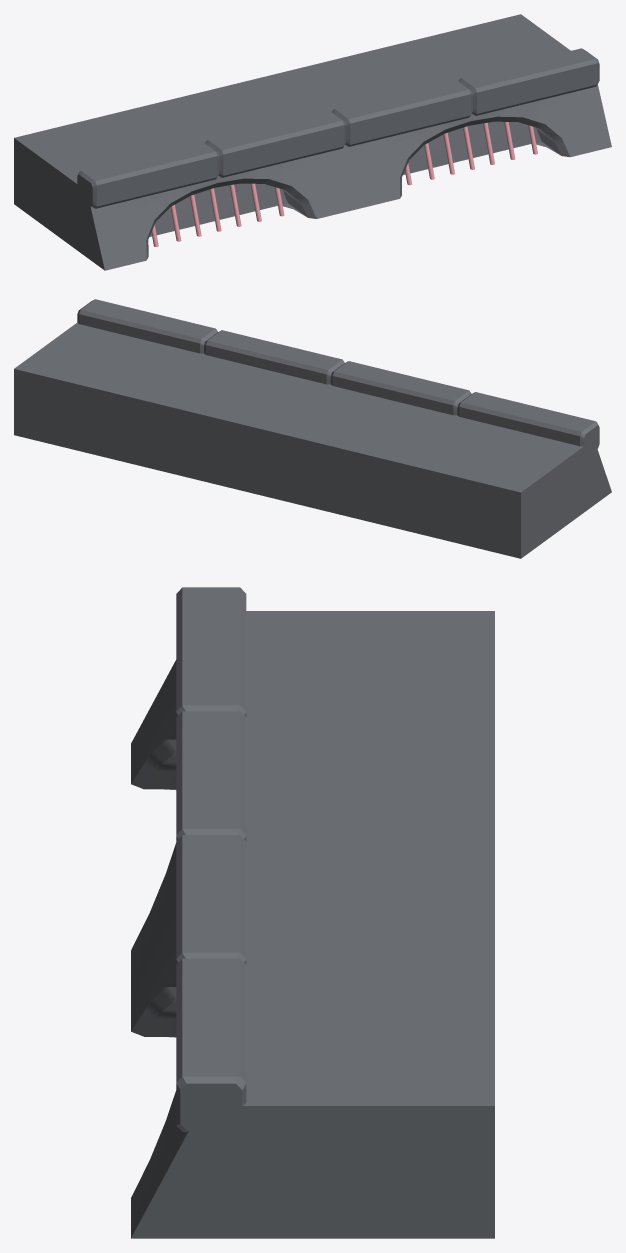
Rendered from SM_Rebord_D.fbx.
3 renders of one model, top to bottom at view 1: azimuth 30°, elevation 25°; view 2: azimuth 150°, elevation 25°; view 3: azimuth 270°, elevation 25°, orthographic. The views are drawn at different scales.
Parts seen in each view (by area): view 1: pCylinder13, pCube16; view 2: pCylinder13, pCube16; view 3: pCylinder13, pCube16.
Boxes of the visible parts, x1,y1,x2,y2 form: pCylinder13: (14, 14, 611, 270); pCube16: (77, 48, 599, 208); pCylinder13: (14, 322, 611, 558); pCube16: (77, 299, 599, 454); pCylinder13: (131, 611, 494, 1238); pCube16: (176, 587, 246, 1131).
Size of the model in its own units: 100 by 15 by 31.09.
